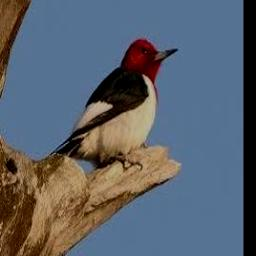Woodpecker: (55, 39, 178, 163)
